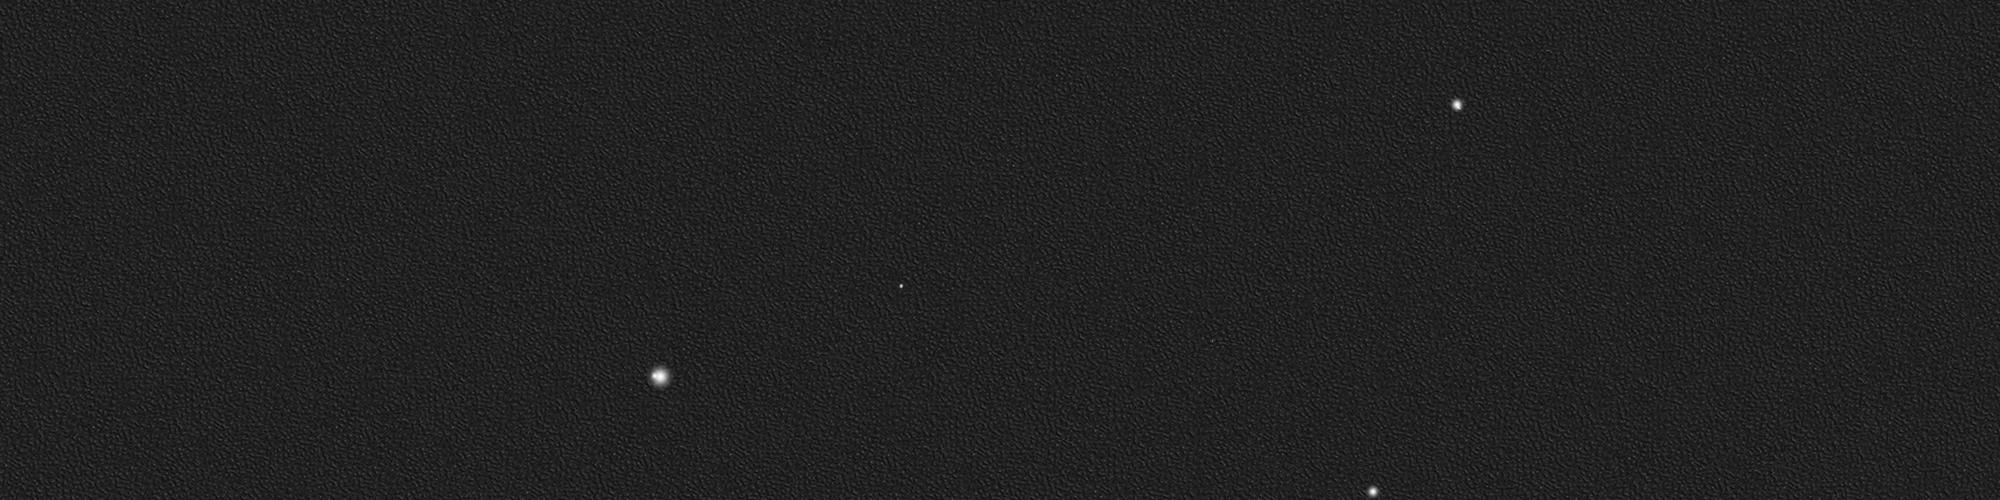Particles: (647, 365, 671, 392), (1362, 483, 1383, 500), (1448, 98, 1464, 115), (895, 281, 908, 290)
